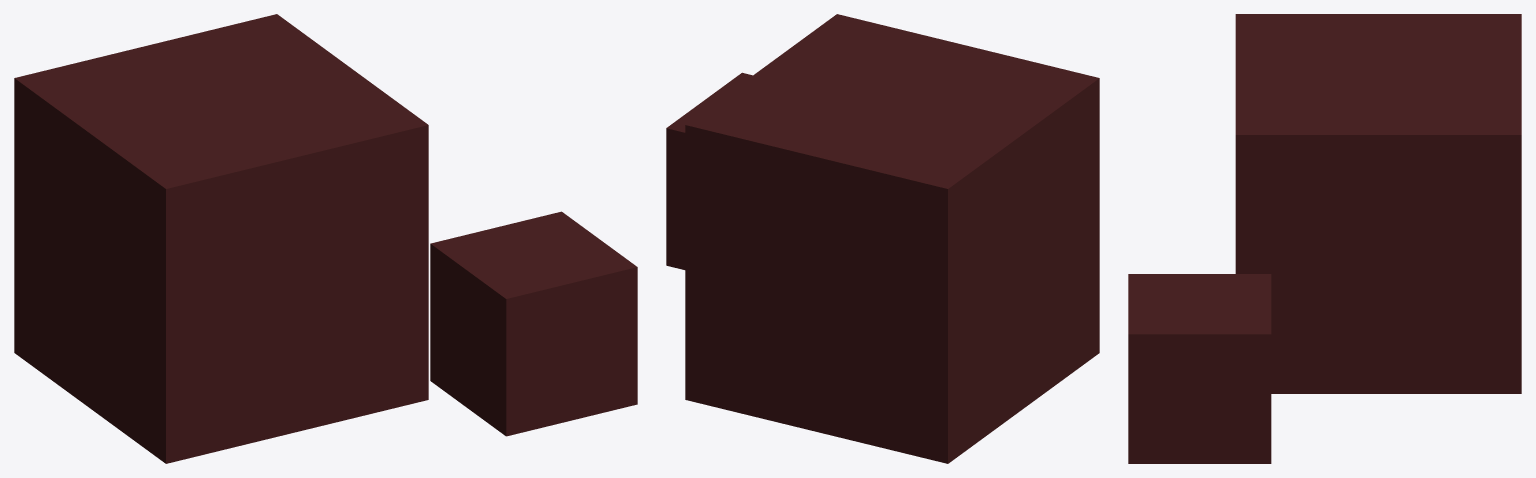
The model's file is DarkBlocks_3D.glb.
3 views of the same model, side by side, from view 1: azimuth 30°, elevation 25°; view 2: azimuth 150°, elevation 25°; view 3: azimuth 270°, elevation 25° (orthographic). The views are drawn at different scales.
Visible parts, largest first — view 1: darkBlocks; view 2: darkBlocks; view 3: darkBlocks.
Boxes of the visible parts, x1=… form: darkBlocks: x1=14, y1=14, x2=637, y2=463; darkBlocks: x1=666, y1=14, x2=1099, y2=463; darkBlocks: x1=1128, y1=14, x2=1521, y2=463.
Bounding box in the file's own units: 0.2234 × 0.1415 × 0.1946.
1 material, 1 textured.
